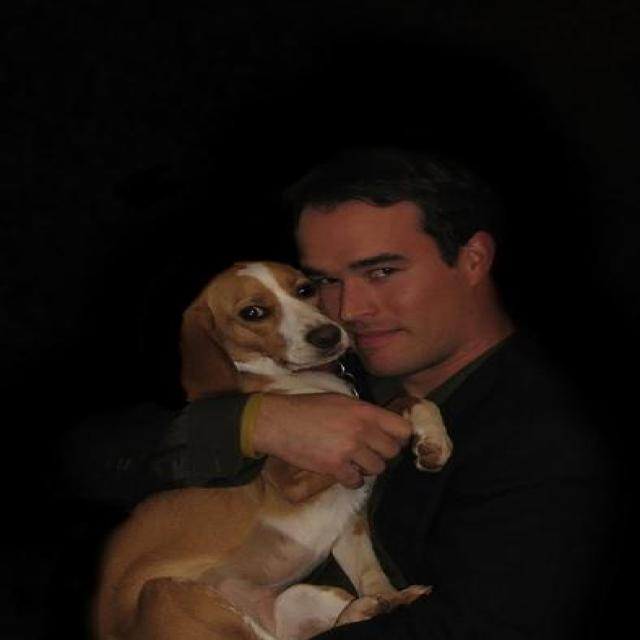beagle: (92, 256, 454, 637)
